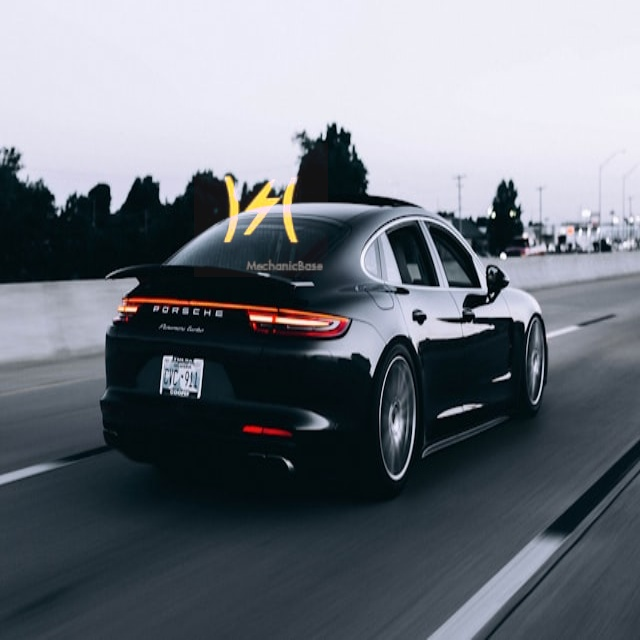symbol: (194, 143, 328, 277)
